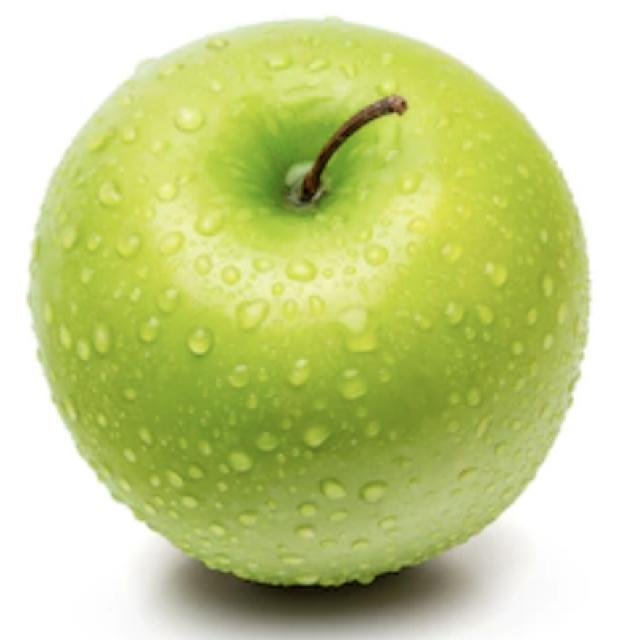Fresh Apple: (48, 30, 577, 597)
